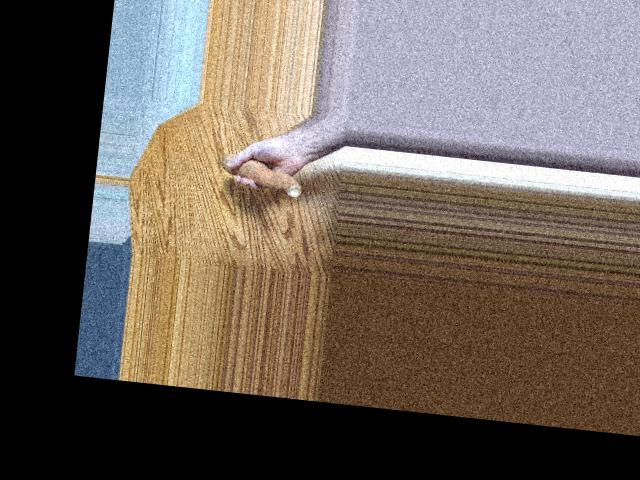sweet_potato: (215, 154, 309, 197)
